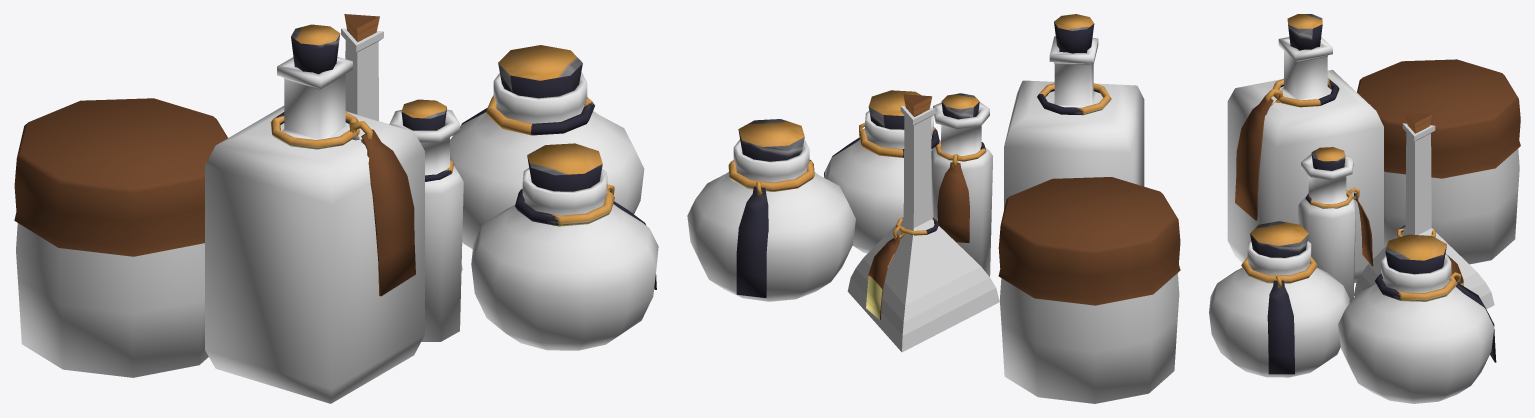
The model's file is combination1LP.fbx.
The picture shows the model from 3 angles, left to right: view 1: azimuth 30°, elevation 25°; view 2: azimuth 150°, elevation 25°; view 3: azimuth 270°, elevation 25°; orthographic projection. The views are drawn at different scales.
Parts seen in each view (by area): view 1: glassC1, potionC1; view 2: glassC1, potionC1; view 3: glassC1, potionC1.
Part boxes in pixels (x1,y1,x2,y2): glassC1: [16, 28, 658, 403]; potionC1: [14, 14, 656, 296]; glassC1: [687, 36, 1179, 403]; potionC1: [728, 14, 1180, 319]; glassC1: [1209, 37, 1519, 403]; potionC1: [1235, 14, 1520, 374].
Size of the model in its own units: 206 by 112 by 126.
